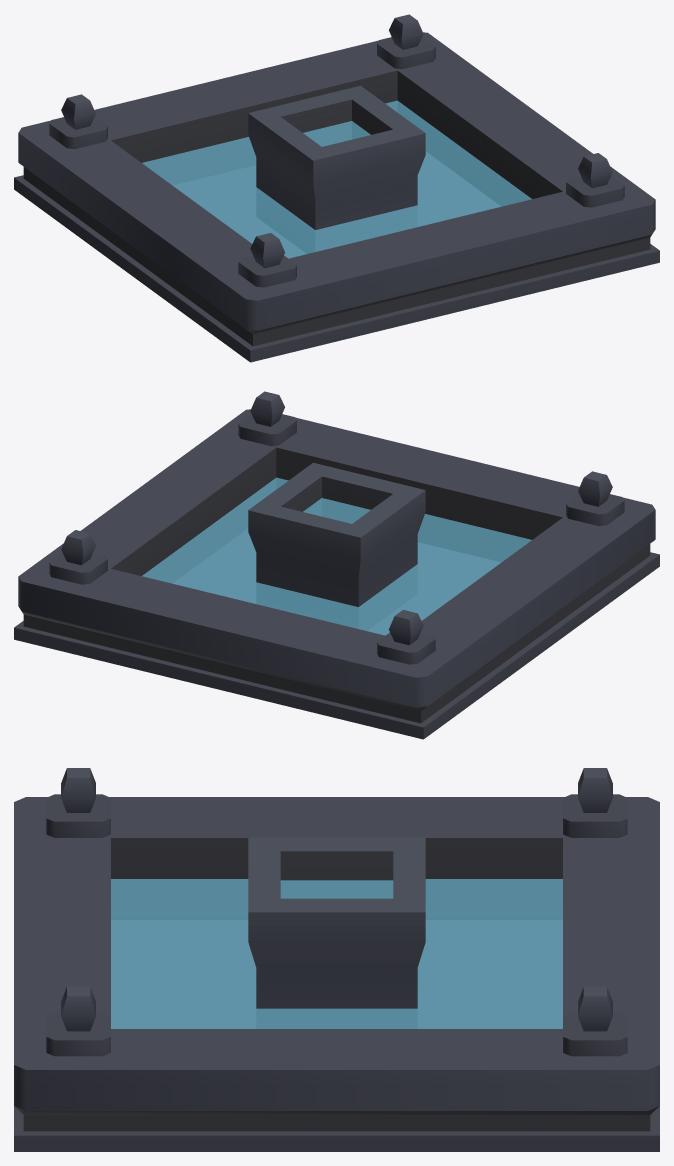
File: fountain-square-detail.glb
The picture shows the model from 3 angles, top to bottom: view 1: azimuth 30°, elevation 25°; view 2: azimuth 150°, elevation 25°; view 3: azimuth 270°, elevation 25°; orthographic projection. The views are drawn at different scales.
Parts seen in each view (by area): view 1: fountain-square-detail, (_ignore); view 2: fountain-square-detail, (_ignore); view 3: fountain-square-detail, (_ignore).
Part boxes in pixels (left/top/right/bottom): fountain-square-detail: left=14, top=14, right=659, bottom=362; (_ignore): left=142, top=100, right=531, bottom=258; fountain-square-detail: left=14, top=391, right=659, bottom=739; (_ignore): left=142, top=477, right=531, bottom=635; fountain-square-detail: left=14, top=768, right=659, bottom=1151; (_ignore): left=111, top=879, right=562, bottom=1028.
Bounding box in the file's own units: 2 × 0.48 × 2.
Materials: 2 (1 with a texture image).
